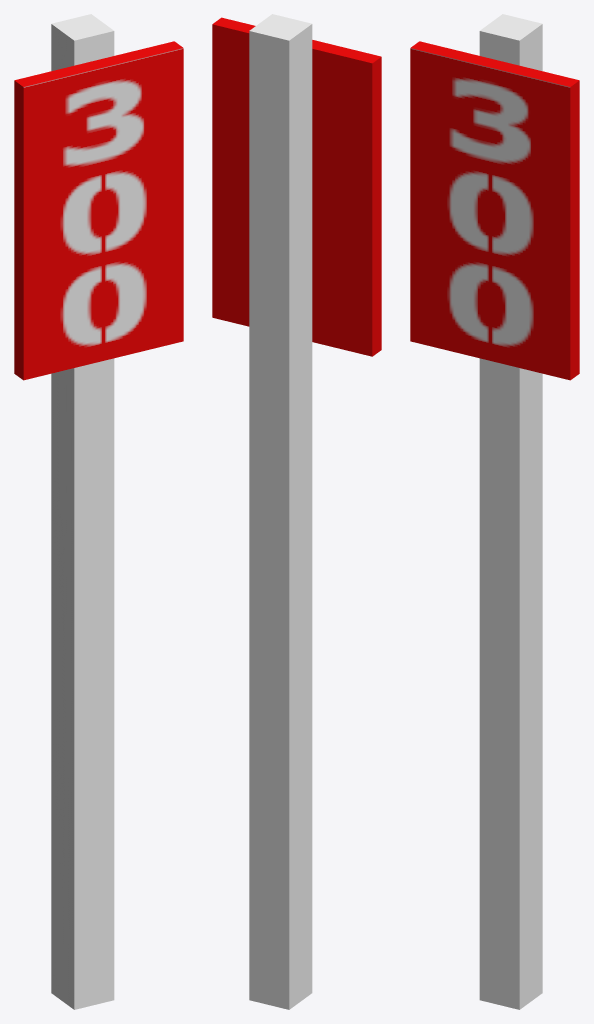
Rendered from marker-300.glb.
3 renders of one model, left to right at view 1: azimuth 30°, elevation 25°; view 2: azimuth 150°, elevation 25°; view 3: azimuth 330°, elevation 25°, orthographic.
Visible parts, largest first — view 1: marker.300; view 2: marker.300; view 3: marker.300.
Part boxes in pixels (left/top/right/bottom): marker.300: left=14, top=14, right=183, bottom=1009; marker.300: left=212, top=14, right=381, bottom=1009; marker.300: left=410, top=14, right=579, bottom=1009.
Size of the model in its own units: 0.4 by 2.31 by 0.14.
Materials: 1 (1 with a texture image).
